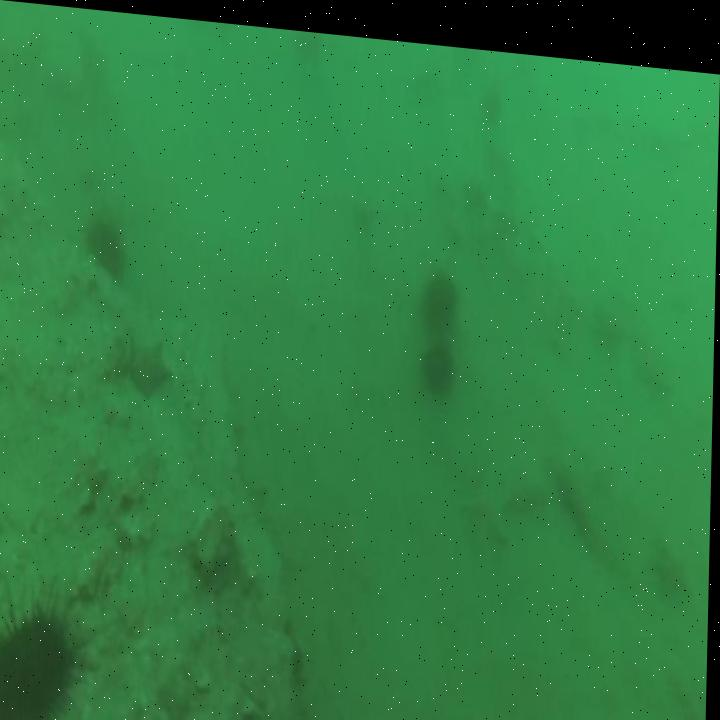echinus: (0, 578, 107, 720), (414, 317, 466, 398), (81, 208, 131, 283), (412, 256, 464, 326)
starfish: (123, 327, 178, 405)
